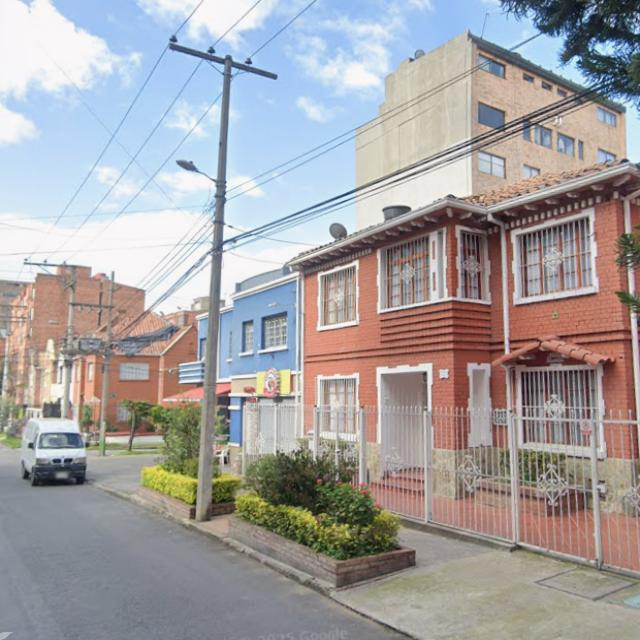fachada: (290, 162, 639, 571), (357, 33, 626, 229), (217, 267, 301, 454), (10, 266, 110, 407), (107, 314, 197, 430), (0, 280, 23, 395)
poste: (170, 39, 276, 521), (196, 57, 231, 521), (100, 272, 114, 455), (61, 266, 77, 418), (2, 331, 11, 400)
